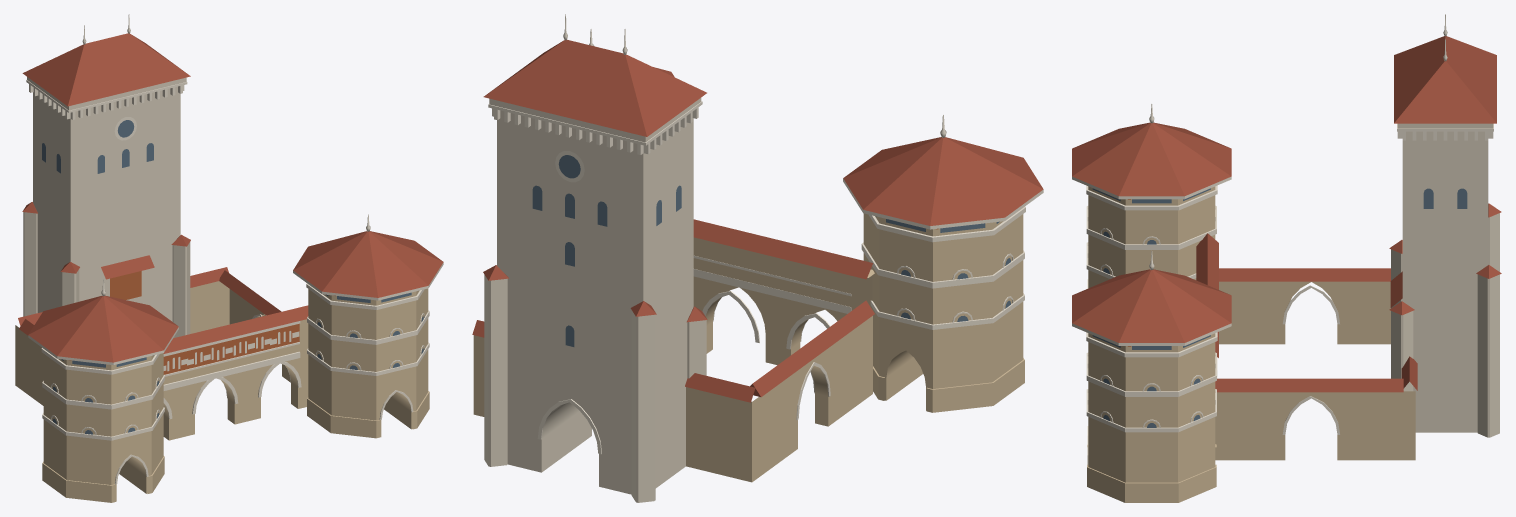
The model's file is munich-isartor.glb.
3 renders of one model, left to right at view 1: azimuth 30°, elevation 25°; view 2: azimuth 150°, elevation 25°; view 3: azimuth 270°, elevation 25°, orthographic. The views are drawn at different scales.
Visible parts, largest first — view 1: Isartor; view 2: Isartor; view 3: Isartor.
Boxes of the visible parts, bbox=[...] form: Isartor: bbox=[15, 14, 443, 502]; Isartor: bbox=[472, 14, 1043, 502]; Isartor: bbox=[1072, 14, 1501, 502].
Size of the model in its own units: 46.7 by 38.2 by 39.6.
